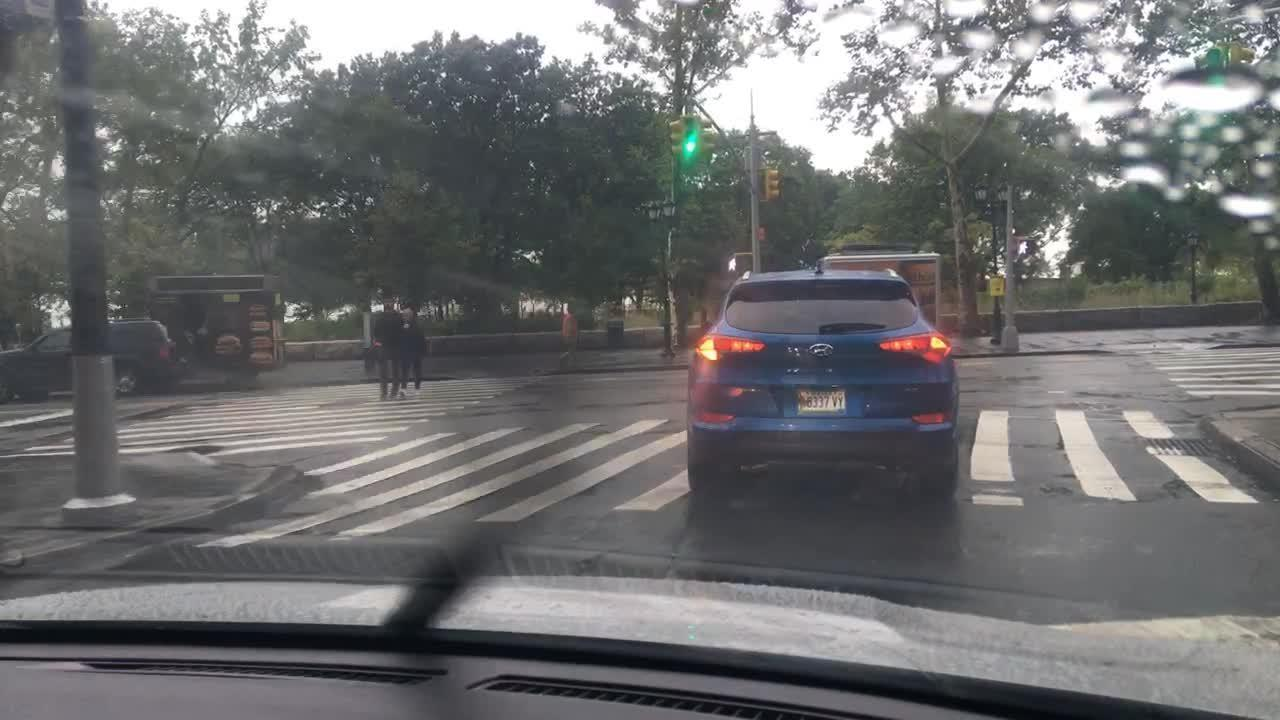Hyundai: (799, 340, 843, 361)
